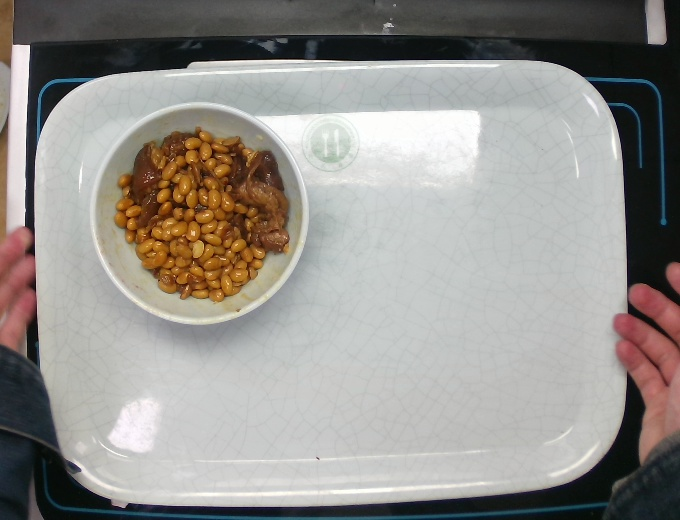JYsf-Fan_Wan: (85, 101, 314, 330)
